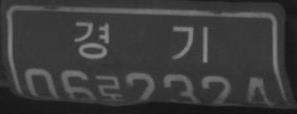0: (23, 66, 60, 101)
2: (201, 73, 242, 107), (126, 70, 157, 106)
3: (162, 71, 201, 107)
4: (245, 75, 277, 109)
6: (60, 68, 96, 104)
경기_D: (74, 20, 211, 64)
로: (96, 73, 126, 103)
